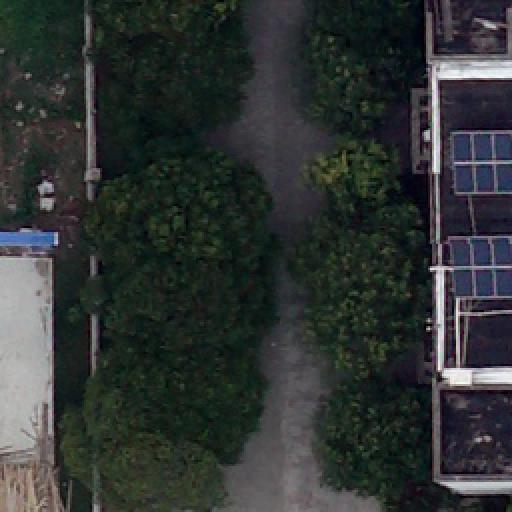solar-panel: (449, 130, 511, 194), (449, 238, 511, 298)
